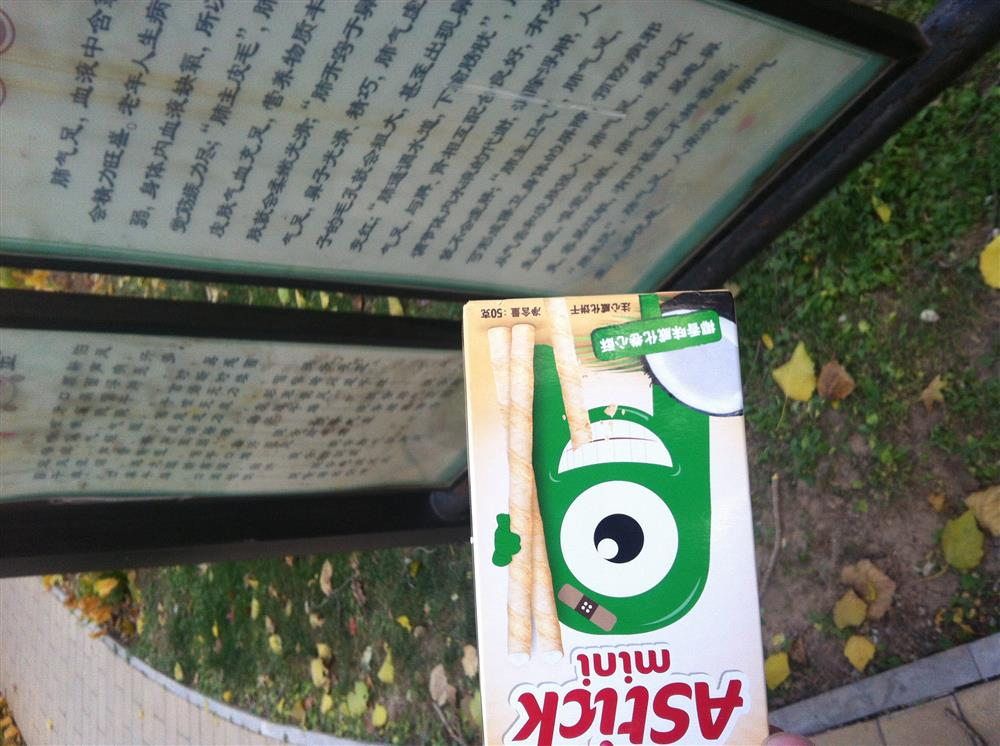AstickMini: (458, 289, 776, 738)
